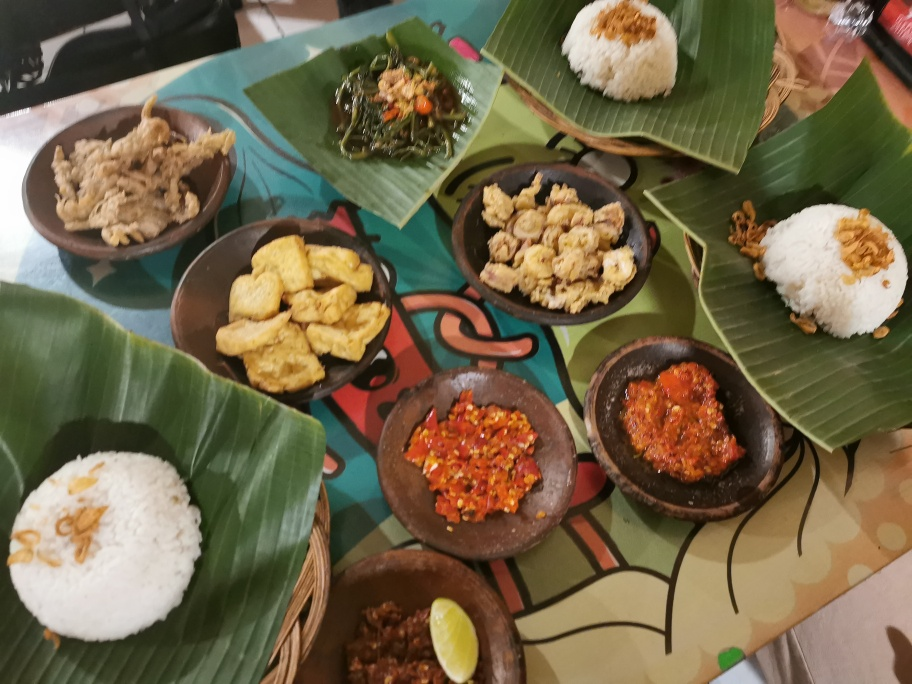nasi putih: (11, 449, 204, 643), (762, 199, 911, 341), (558, 1, 677, 104)
